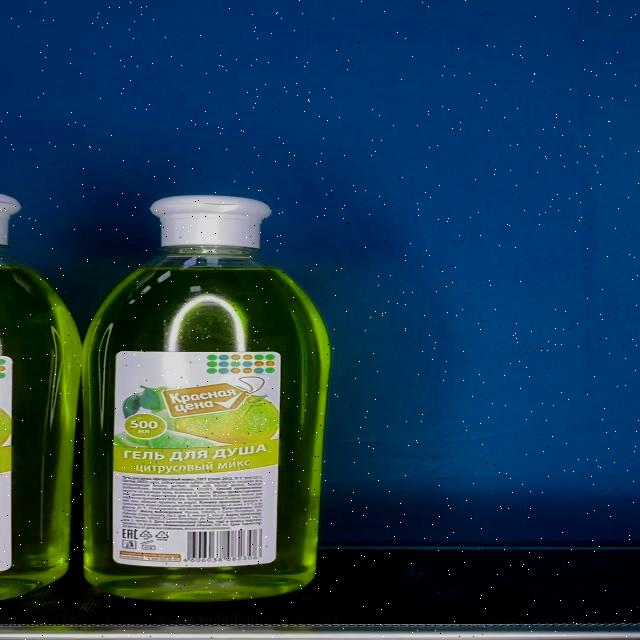Bottle: (82, 194, 331, 600)
Cap: (150, 196, 270, 249)
